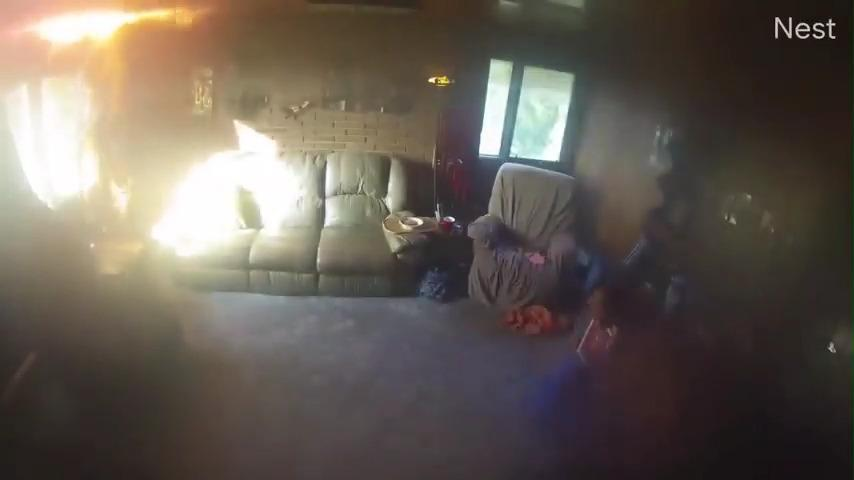fire: (13, 6, 207, 54)
